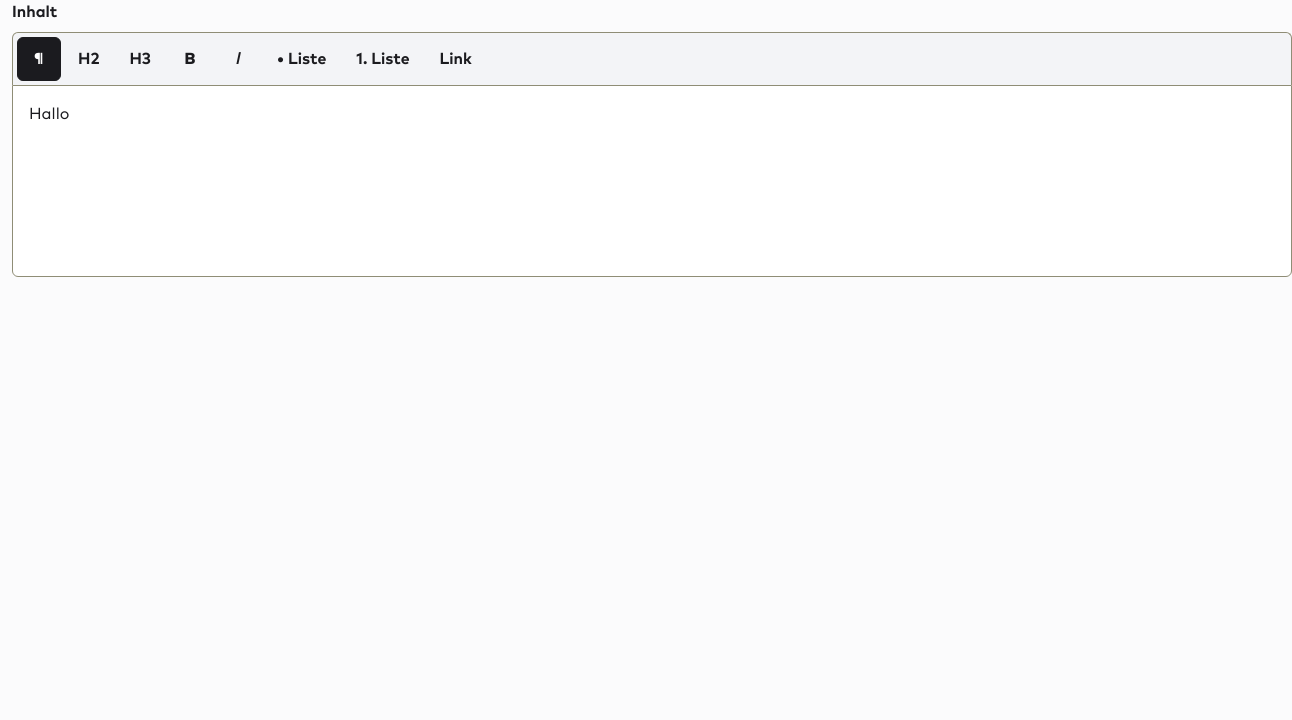
RichTextField link dialog › cancel closes the dialog
Step 1. Click the button "Link" → (456, 59), box [427, 37, 485, 81]
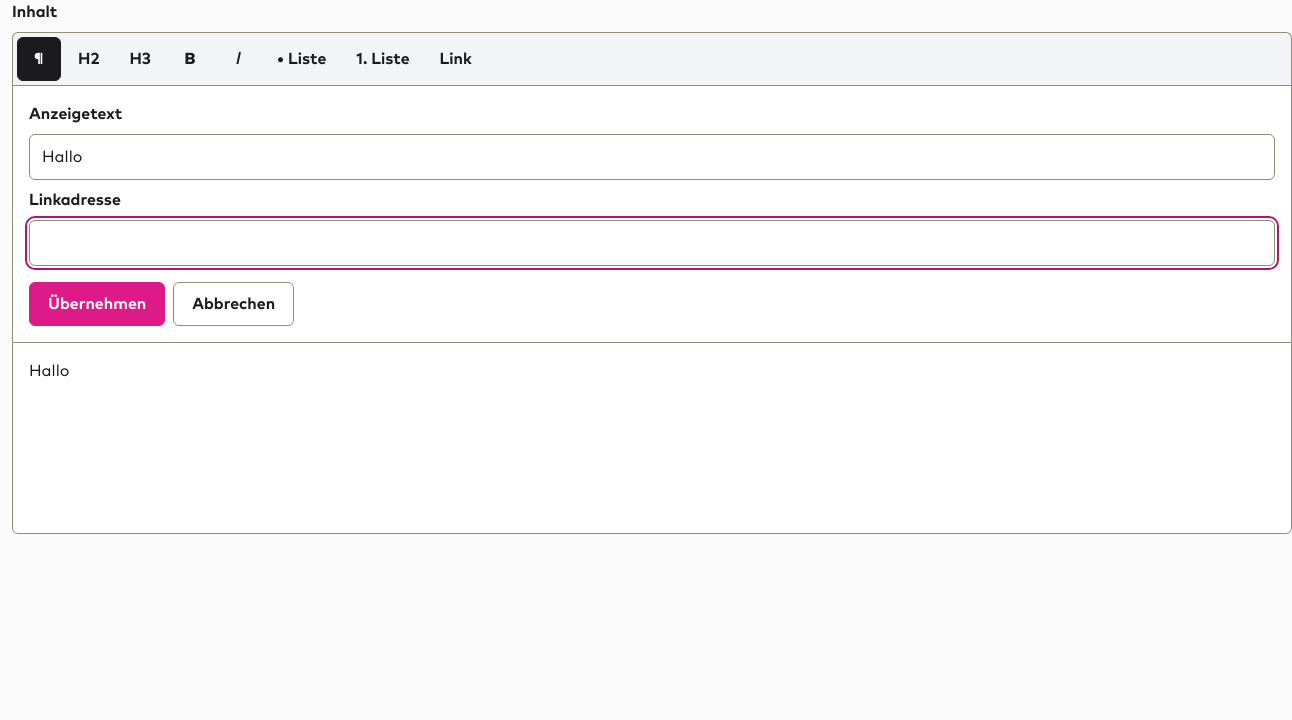
Expected: the form with class "link-form" is shown, [12, 85, 1291, 342]
Step 2. Click the button "Abbrechen" → (234, 304), box [173, 282, 294, 326]
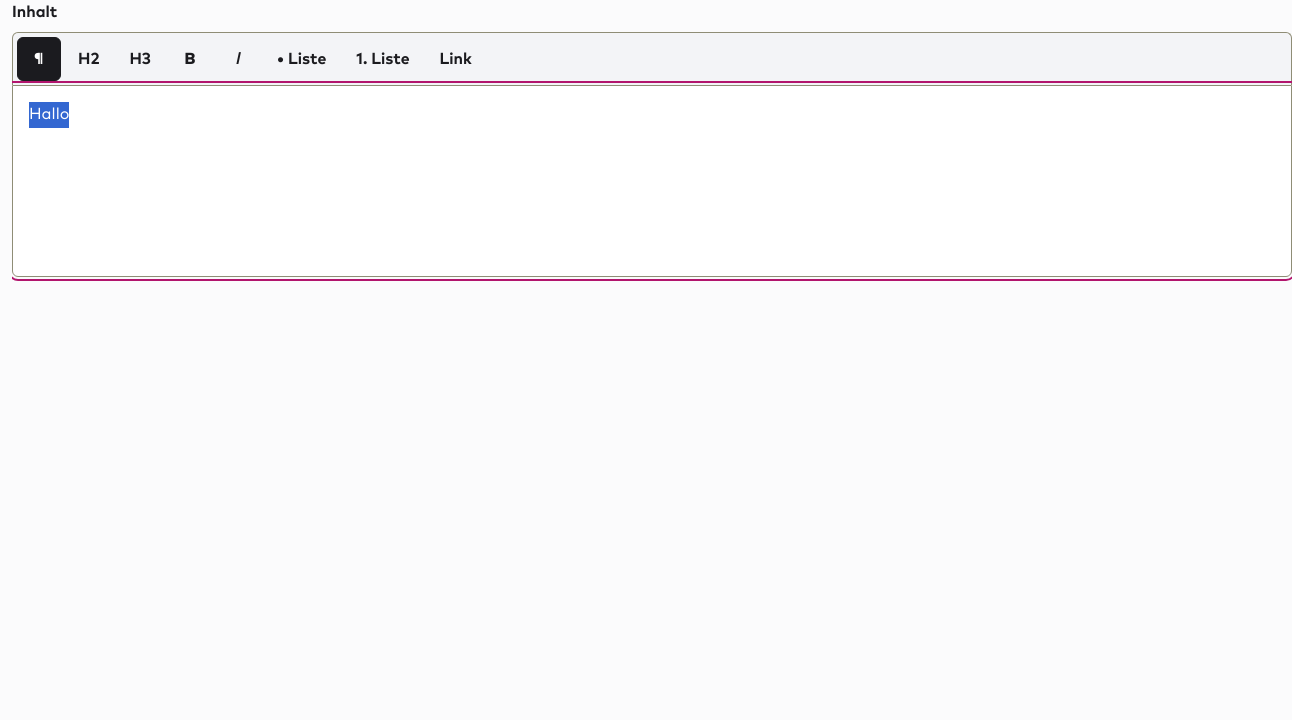
Expected: the form with class "link-form" is gone
